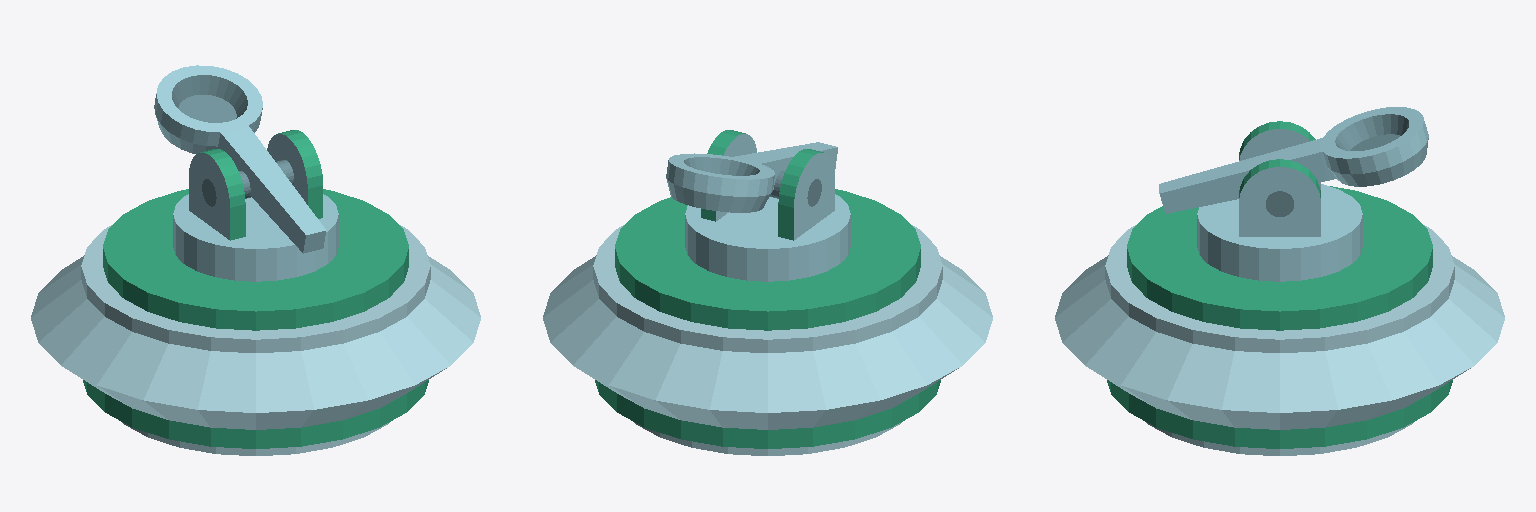
The model's file is enemy_ufoGreenWeapon.obj.
3 renders of one model, left to right at view 1: azimuth 30°, elevation 25°; view 2: azimuth 150°, elevation 25°; view 3: azimuth 270°, elevation 25°, orthographic.
Parts seen in each view (by area): view 1: enemy_ufoGreenWeapon, catapult; view 2: enemy_ufoGreenWeapon, catapult; view 3: enemy_ufoGreenWeapon, catapult.
Boxes of the visible parts, x1,y1,x2,y2 form: enemy_ufoGreenWeapon: [31, 130, 480, 455]; catapult: [154, 65, 325, 253]; enemy_ufoGreenWeapon: [543, 130, 992, 455]; catapult: [666, 142, 837, 212]; enemy_ufoGreenWeapon: [1055, 121, 1504, 455]; catapult: [1159, 107, 1428, 213].
Bounding box in the file's own units: 1 × 0.6652 × 1.